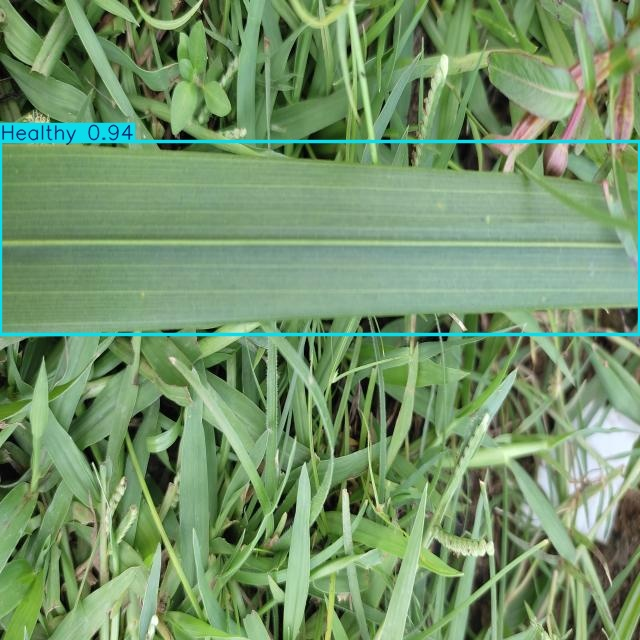Healthy: (0, 141, 640, 335)
